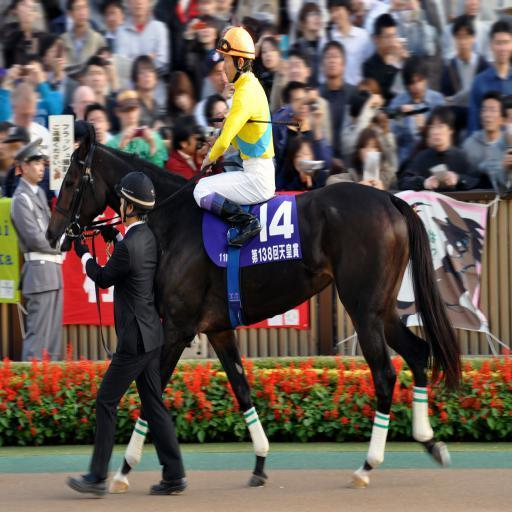horse: (46, 122, 464, 490)
